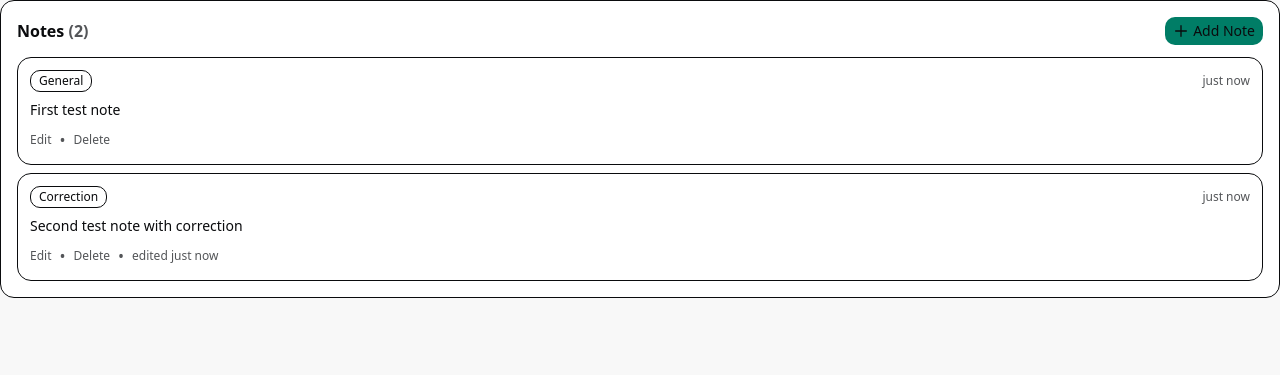
Test case: UserNotesPanel › Edit Note › shows edit form when edit button is clicked
Click the button "Edit" below "First test note" at (41, 140), box [30,132,52,148]
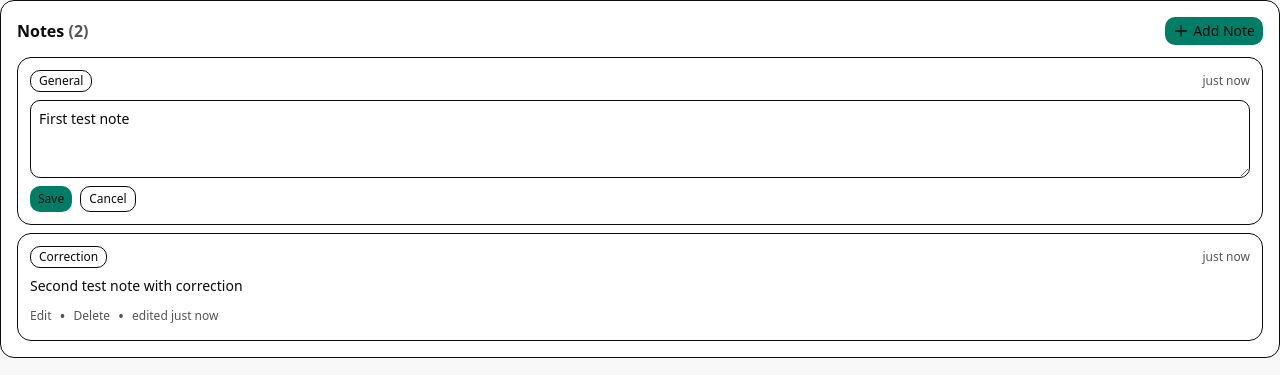
Expected: the text box is shown, [30,100,1250,178]
